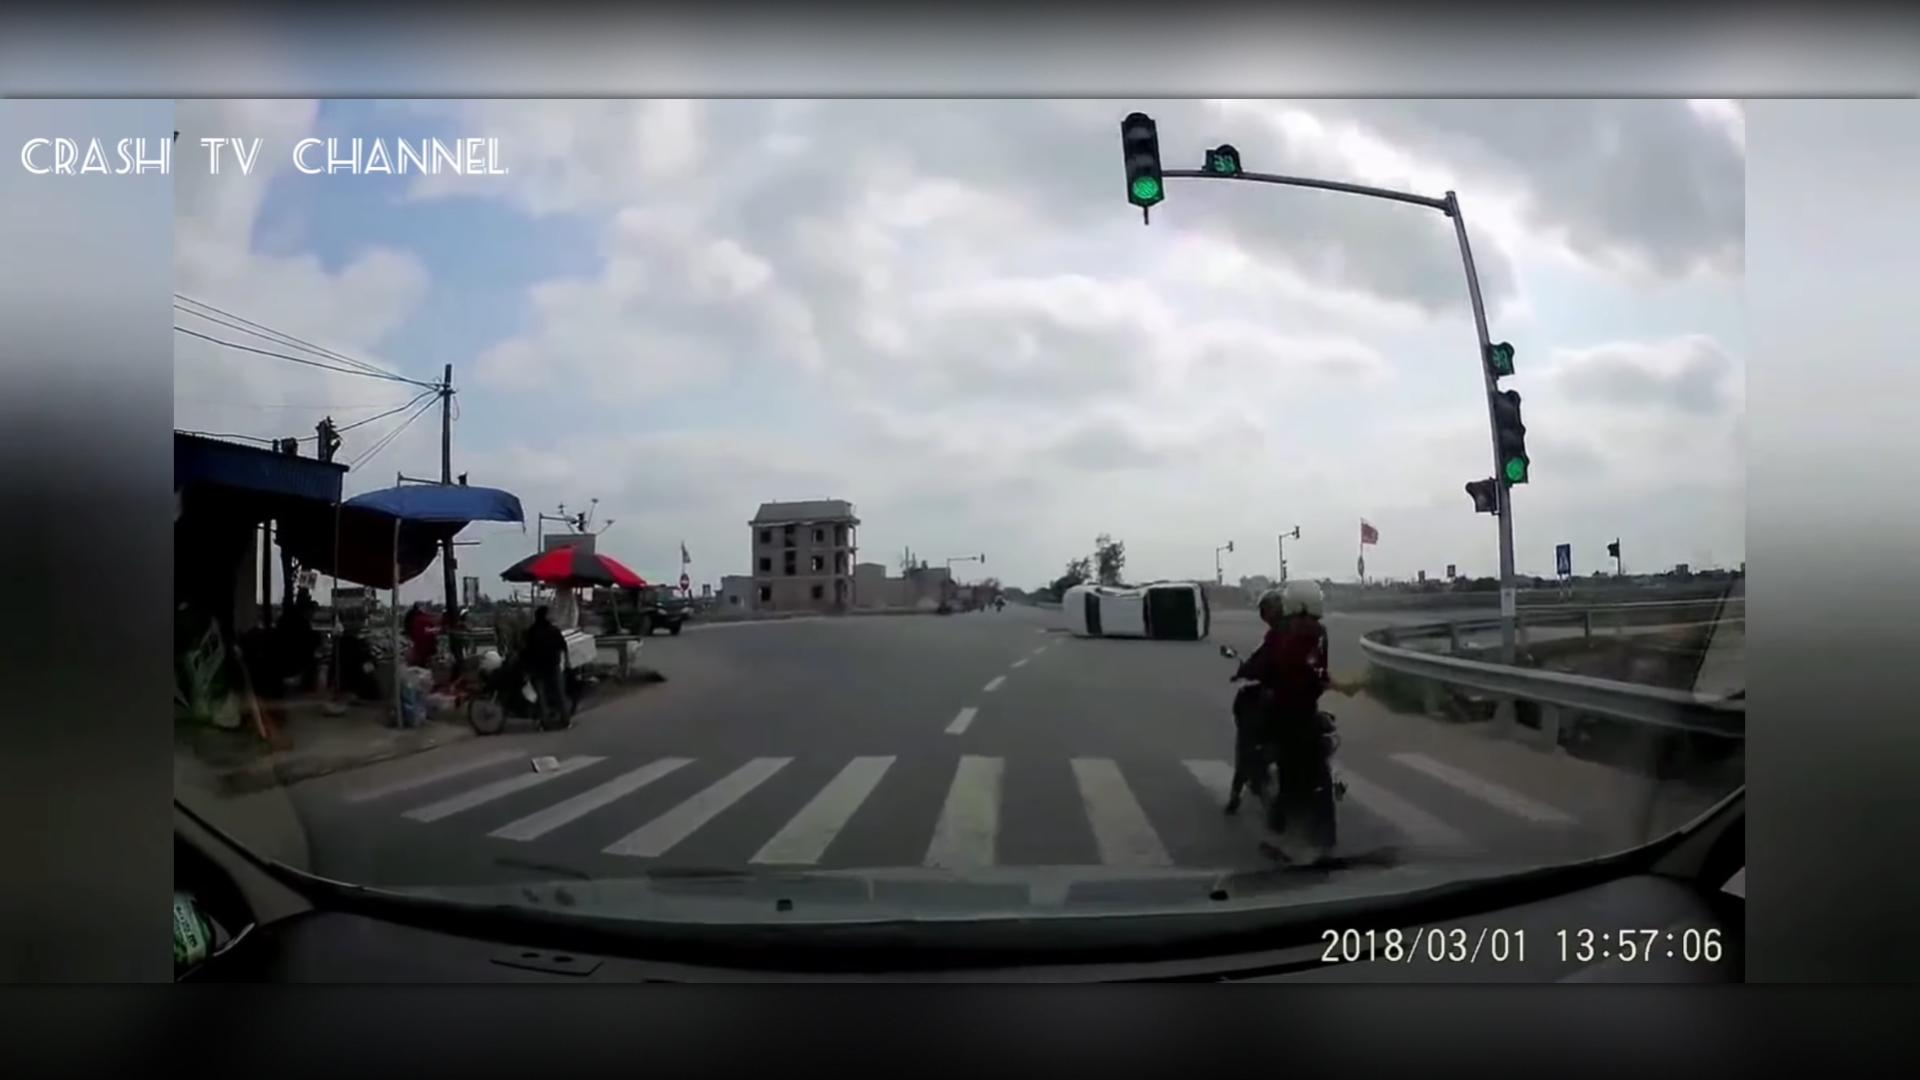accident: (1059, 582, 1215, 642)
motorcycle: (1221, 576, 1356, 851)
